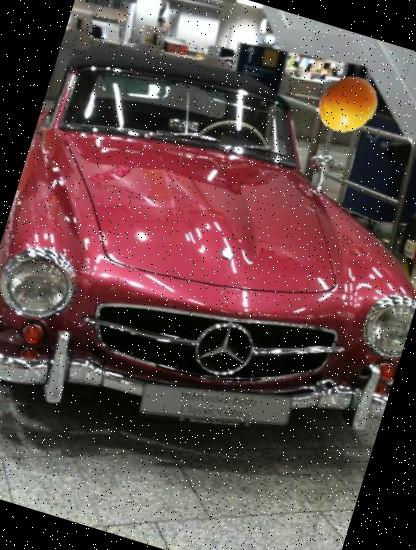Cherry: (310, 67, 386, 143)
